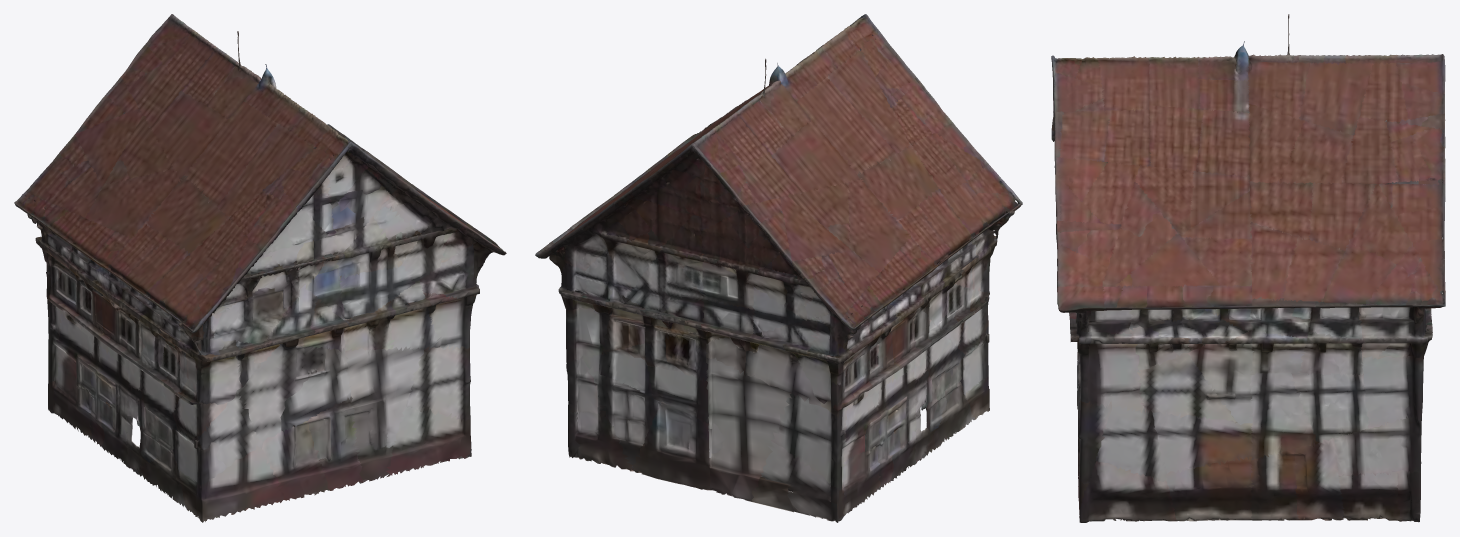
Rendered from building11.glb.
3 renders of one model, left to right at view 1: azimuth 30°, elevation 25°; view 2: azimuth 150°, elevation 25°; view 3: azimuth 270°, elevation 25°, orthographic. The views are drawn at different scales.
Size of the model in its own units: 1.72 by 2 by 1.65.
Materials: 1 (1 with a texture image).
